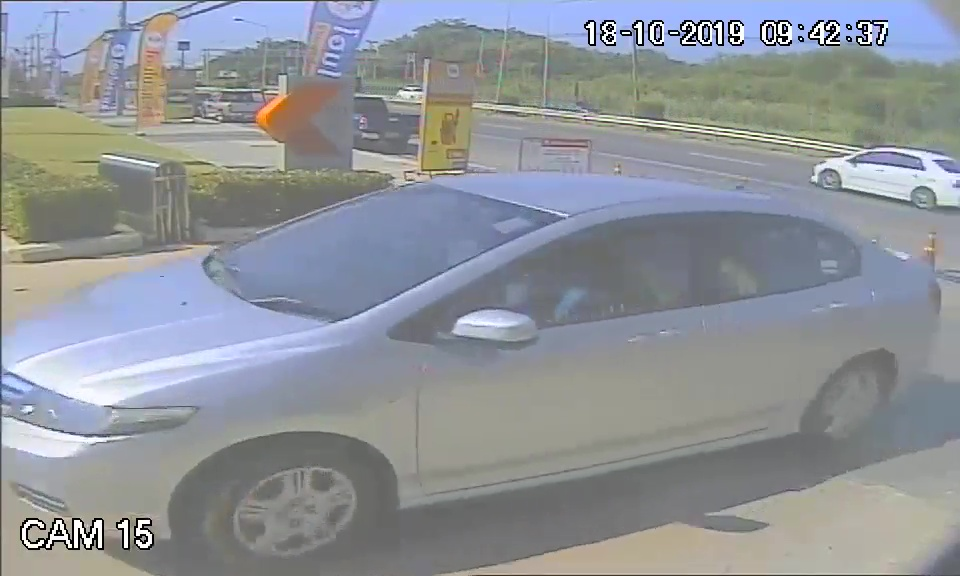sedan: (7, 173, 815, 556)
